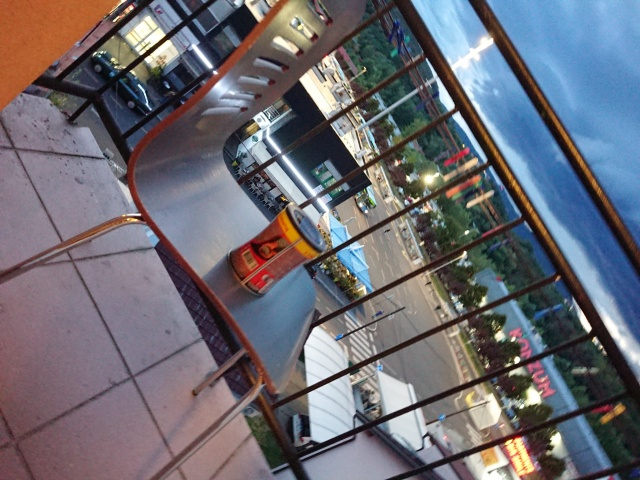Nescafe Classic 225g: (224, 202, 329, 300)
